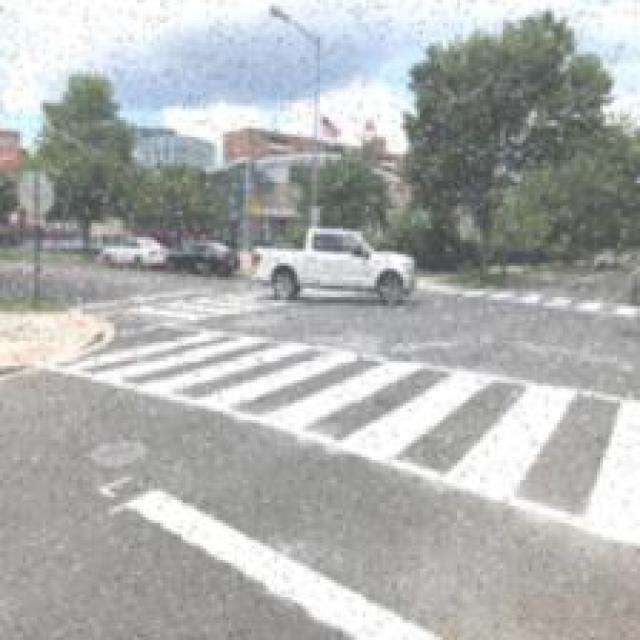walk-crossing: (64, 324, 639, 564), (465, 273, 640, 333), (103, 284, 317, 333)
